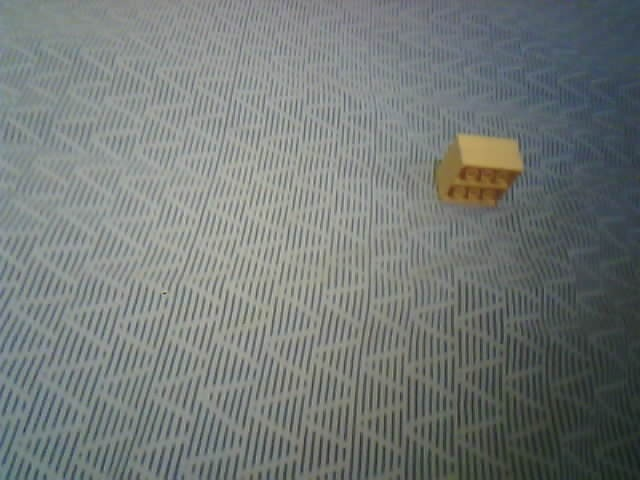lego: (434, 133, 523, 208)
